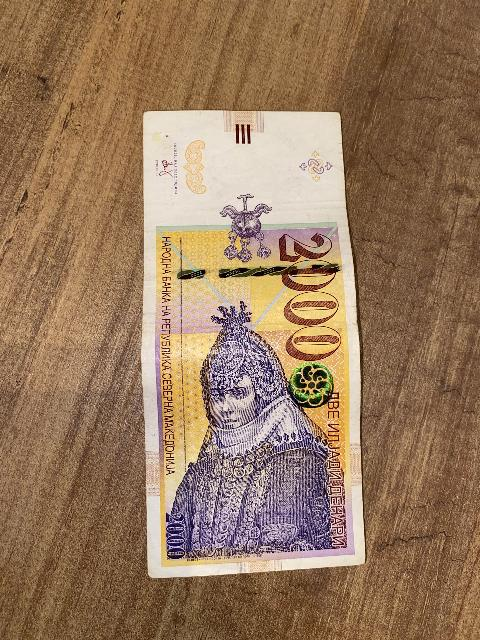note: (129, 107, 367, 594), (144, 188, 363, 575)
